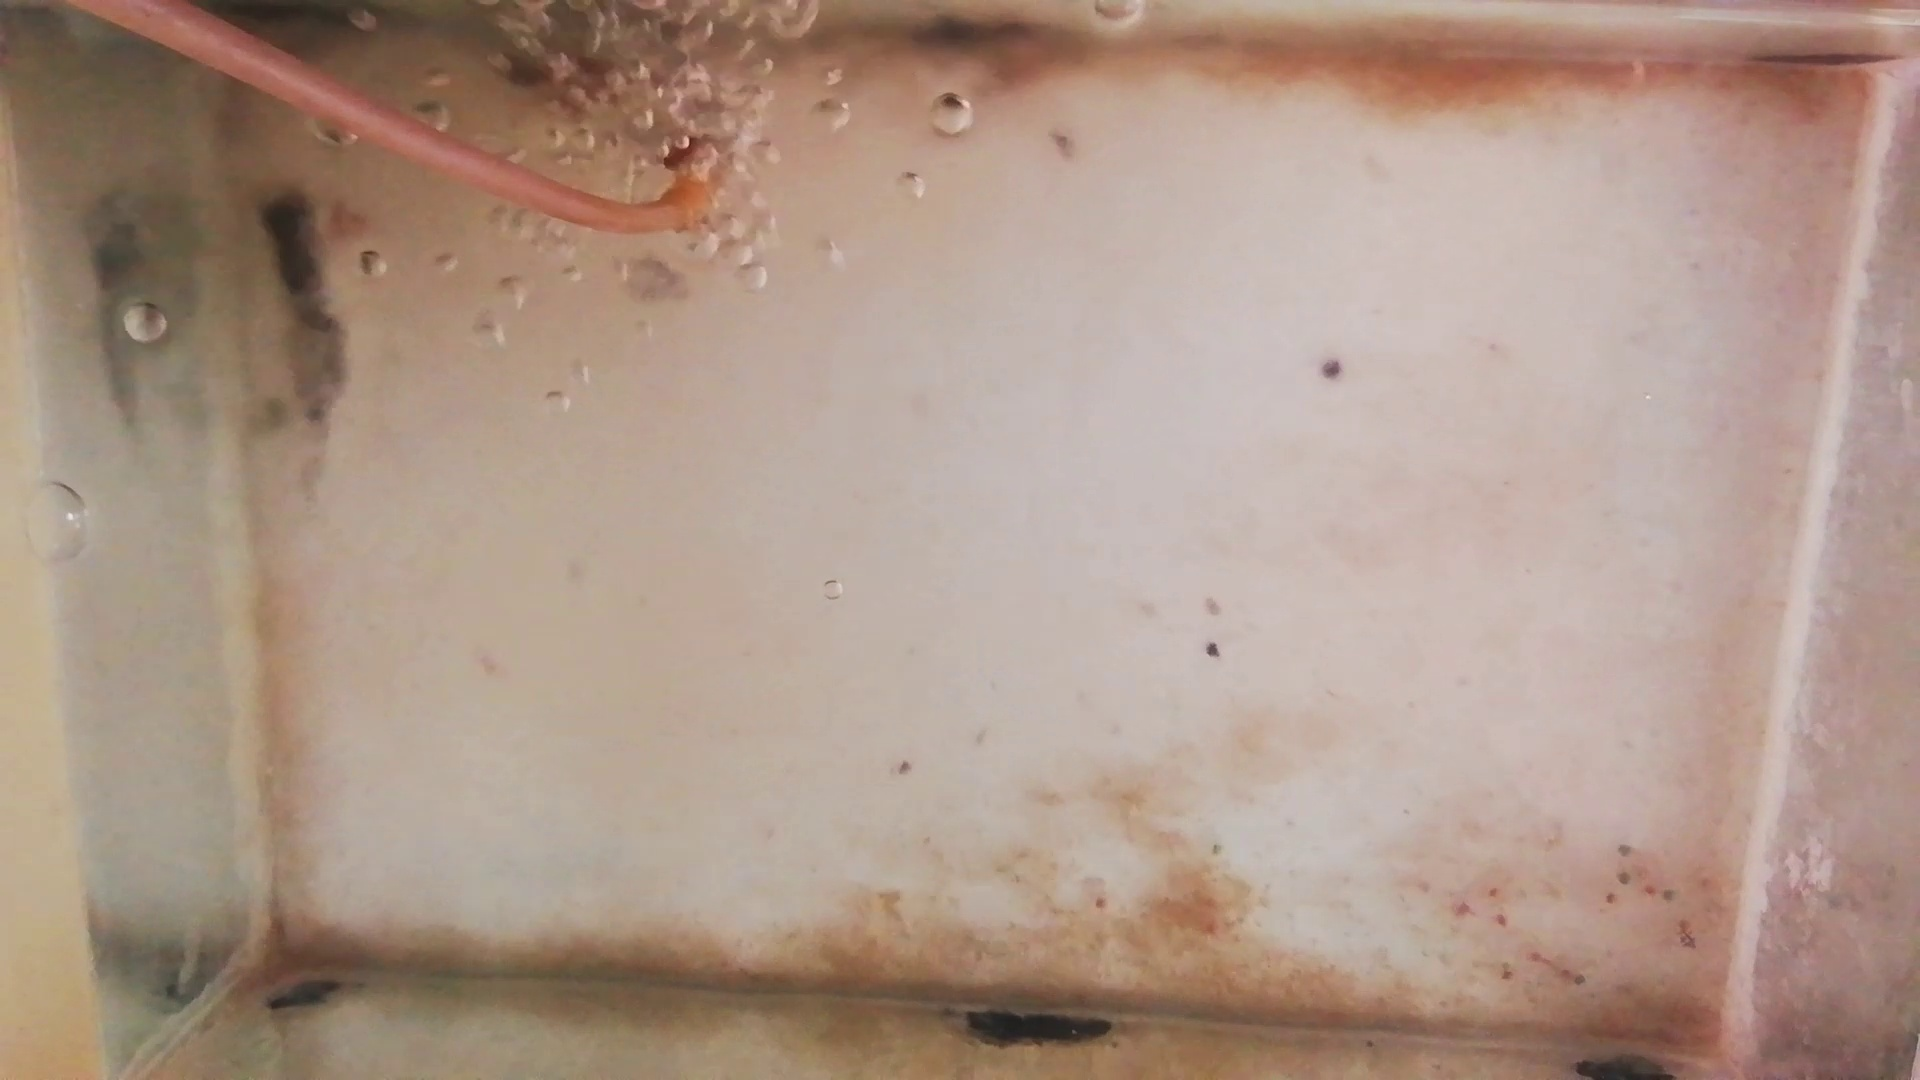fish: (262, 186, 338, 429), (480, 38, 657, 98)
